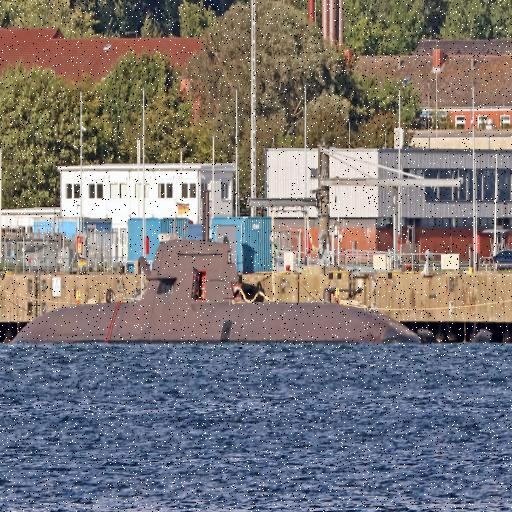submarine: (6, 157, 459, 355)
